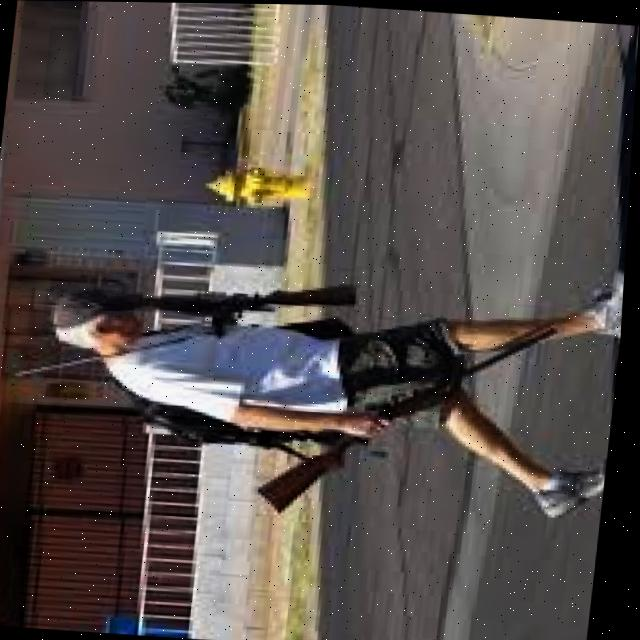firearm: (257, 308, 563, 531), (112, 266, 362, 328)
